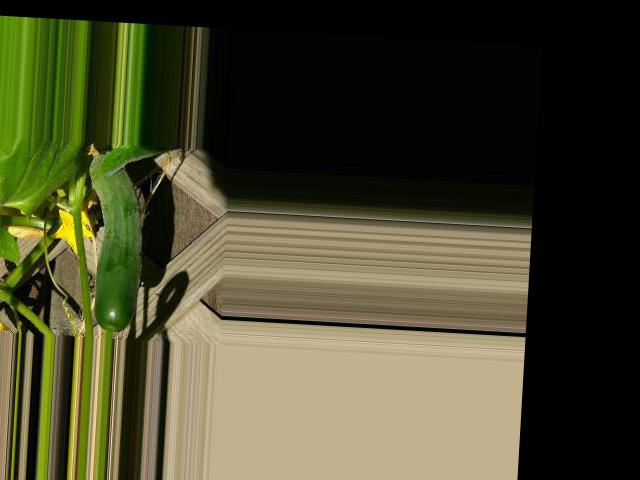cucumber: (80, 143, 148, 331)
